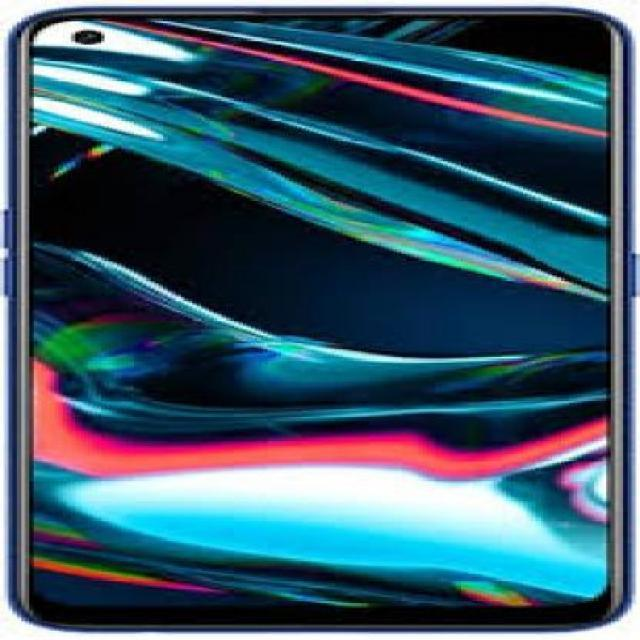phone: (4, 2, 632, 636)
